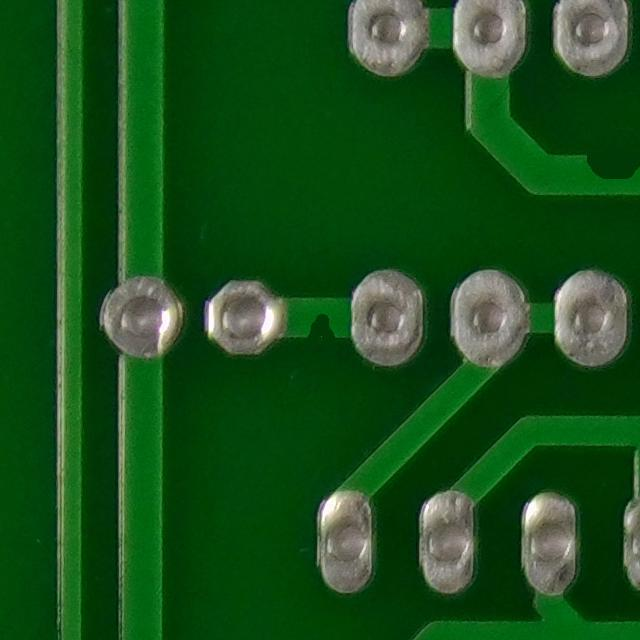mouse_bite: (291, 279, 350, 361)
